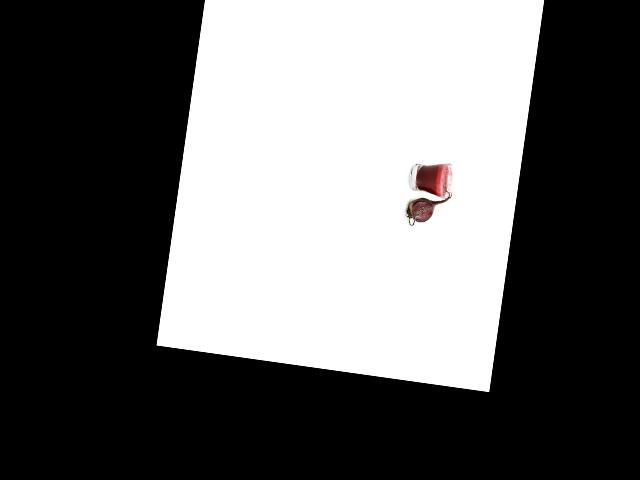beet: (404, 180, 452, 230)
